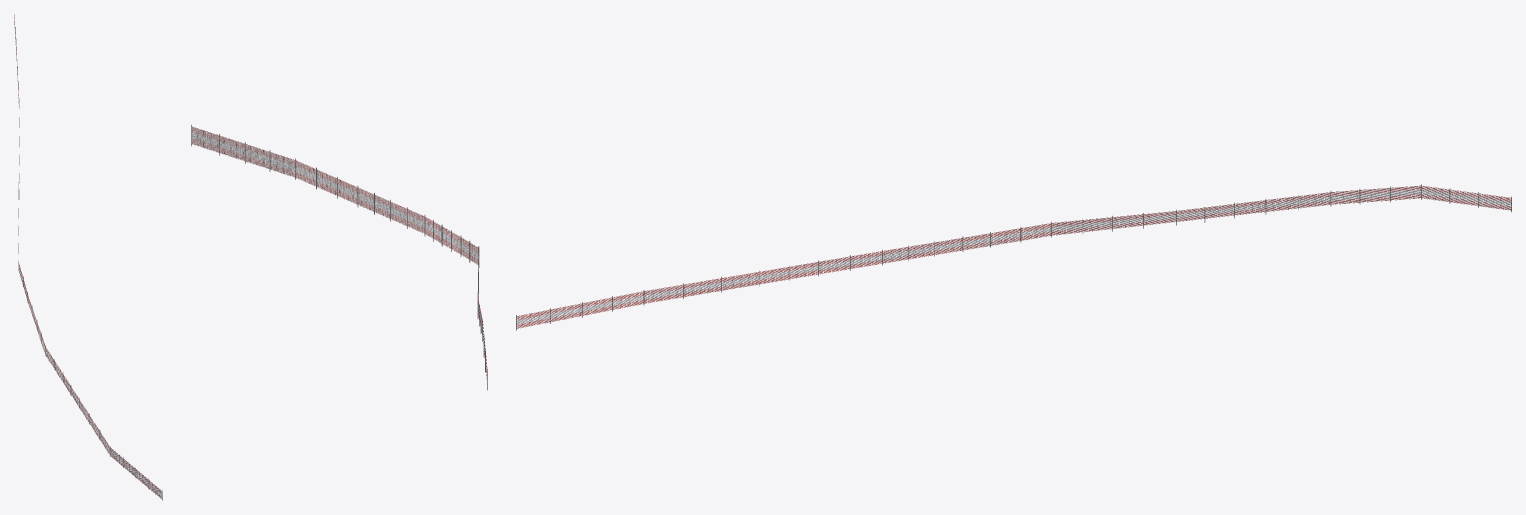
The model's file is mtb2_barrier3.obj.
3 renders of one model, left to right at view 1: azimuth 30°, elevation 25°; view 2: azimuth 210°, elevation 25°; view 3: azimuth 270°, elevation 25°, orthographic. The views are drawn at different scales.
Visible parts, largest first — view 1: mtb2_barrier3; view 2: mtb2_barrier3; view 3: mtb2_barrier3.
Boxes of the visible parts, x1,y1,x2,y2 form: mtb2_barrier3: (14, 14, 162, 500); mtb2_barrier3: (191, 124, 487, 390); mtb2_barrier3: (516, 184, 1511, 330).
Size of the model in its own units: 21.92 by 19.31 by 64.02.
3 materials, 3 textured.
